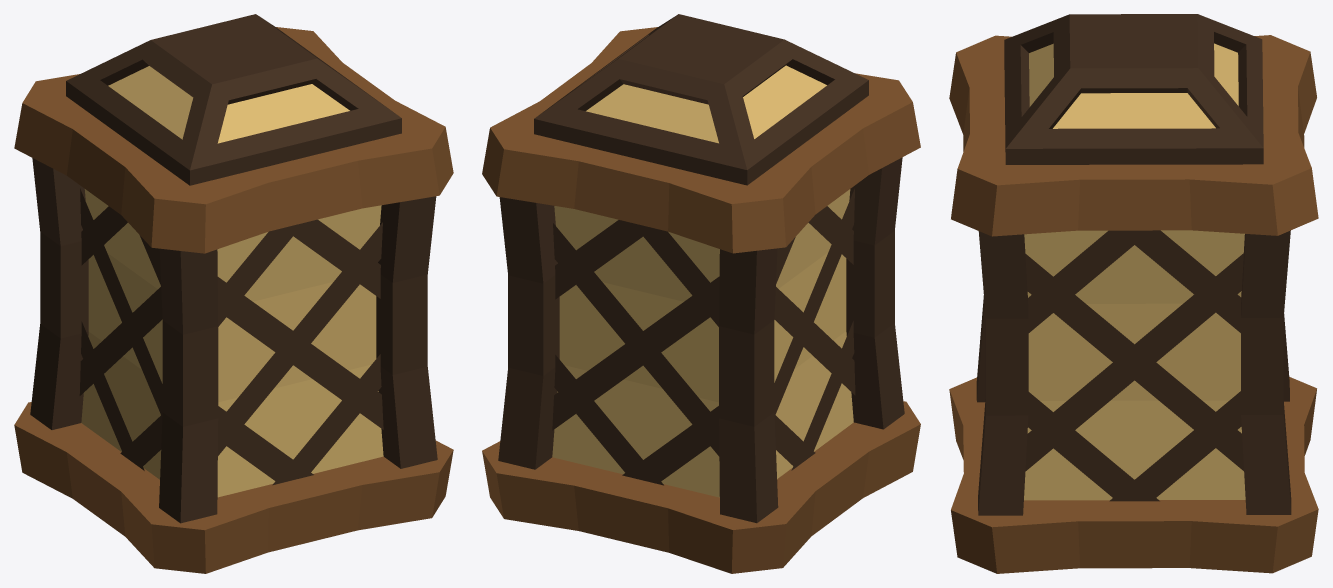
File: lantern.glb
3 renders of one model, left to right at view 1: azimuth 30°, elevation 25°; view 2: azimuth 150°, elevation 25°; view 3: azimuth 270°, elevation 25°, orthographic. The views are drawn at different scales.
Parts seen in each view (by area): view 1: lantern.017; view 2: lantern.017; view 3: lantern.017.
Part boxes in pixels (left/top/right/bottom): lantern.017: left=14, top=14, right=453, bottom=573; lantern.017: left=482, top=14, right=920, bottom=573; lantern.017: left=949, top=14, right=1318, bottom=573.
Size of the model in its own units: 0.4389 by 0.6 by 0.4389.
